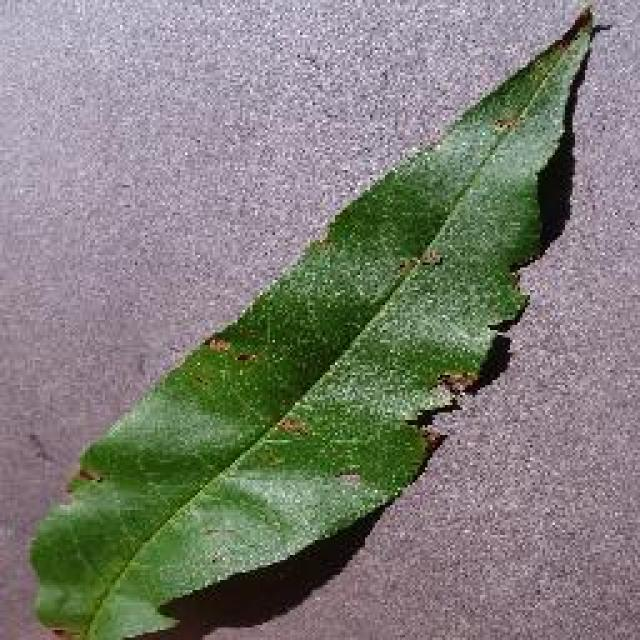Peach_Bacterial_Spot: (207, 272, 498, 488)
